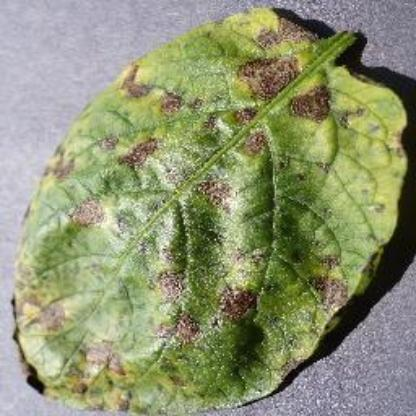Early-Blight: (7, 2, 415, 416)
